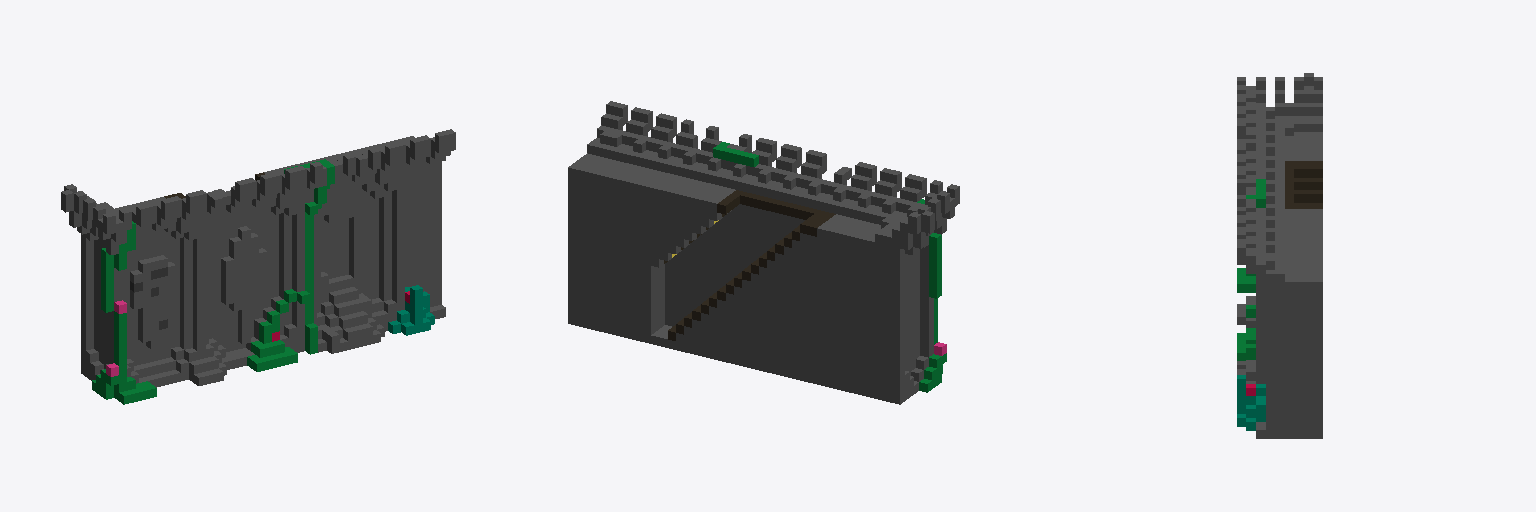
3 renders of one model, left to right at view 1: azimuth 30°, elevation 25°; view 2: azimuth 150°, elevation 25°; view 3: azimuth 270°, elevation 25°, orthographic.
Visible parts, largest first — view 1: object 1; view 2: object 1; view 3: object 1.
Boxes of the visible parts, x1,y1,x2,y2 form: object 1: [61, 129, 455, 404]; object 1: [568, 101, 959, 404]; object 1: [1237, 73, 1322, 438].
Size of the model in its own units: 4.3 by 2.2 by 0.9.
1 materials, 1 textured.